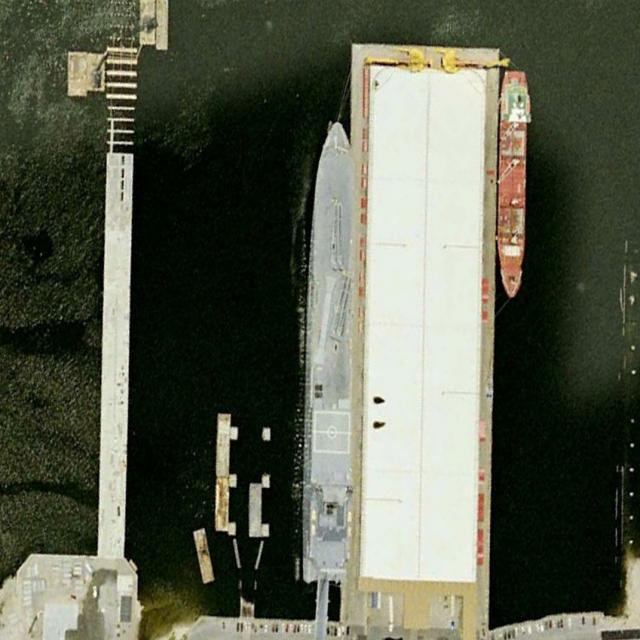Cargo: (301, 119, 358, 585), (497, 69, 531, 296)
